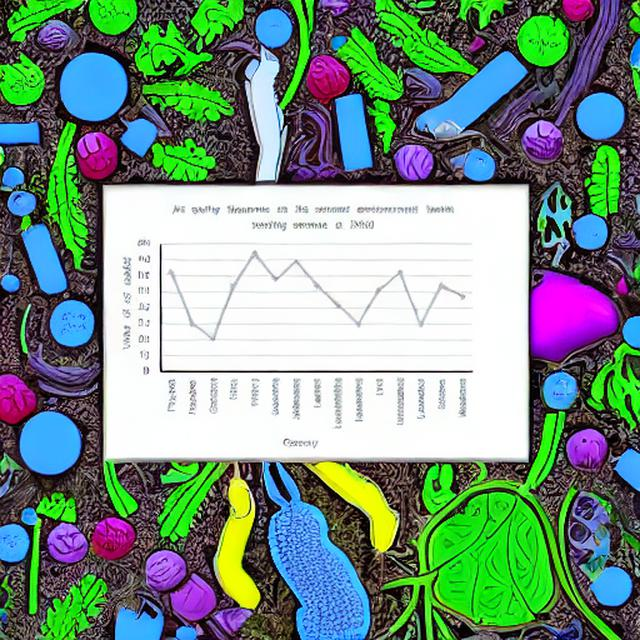Graph: (110, 195, 479, 454)
